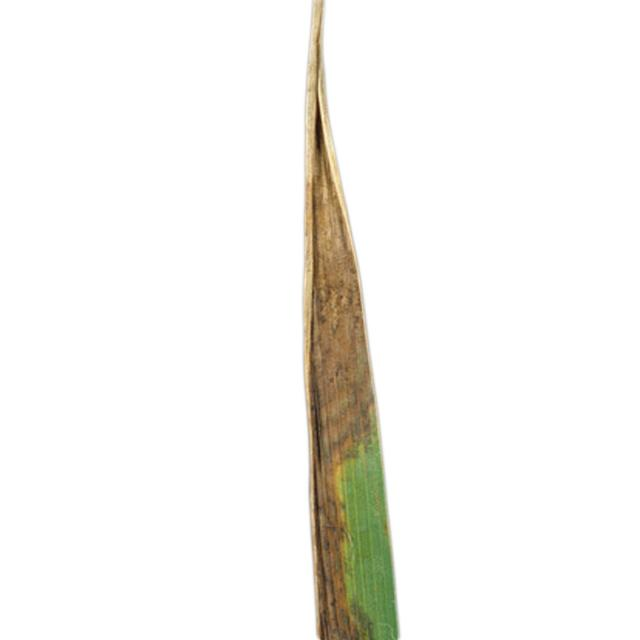Leaf scald: (198, 0, 436, 640)
